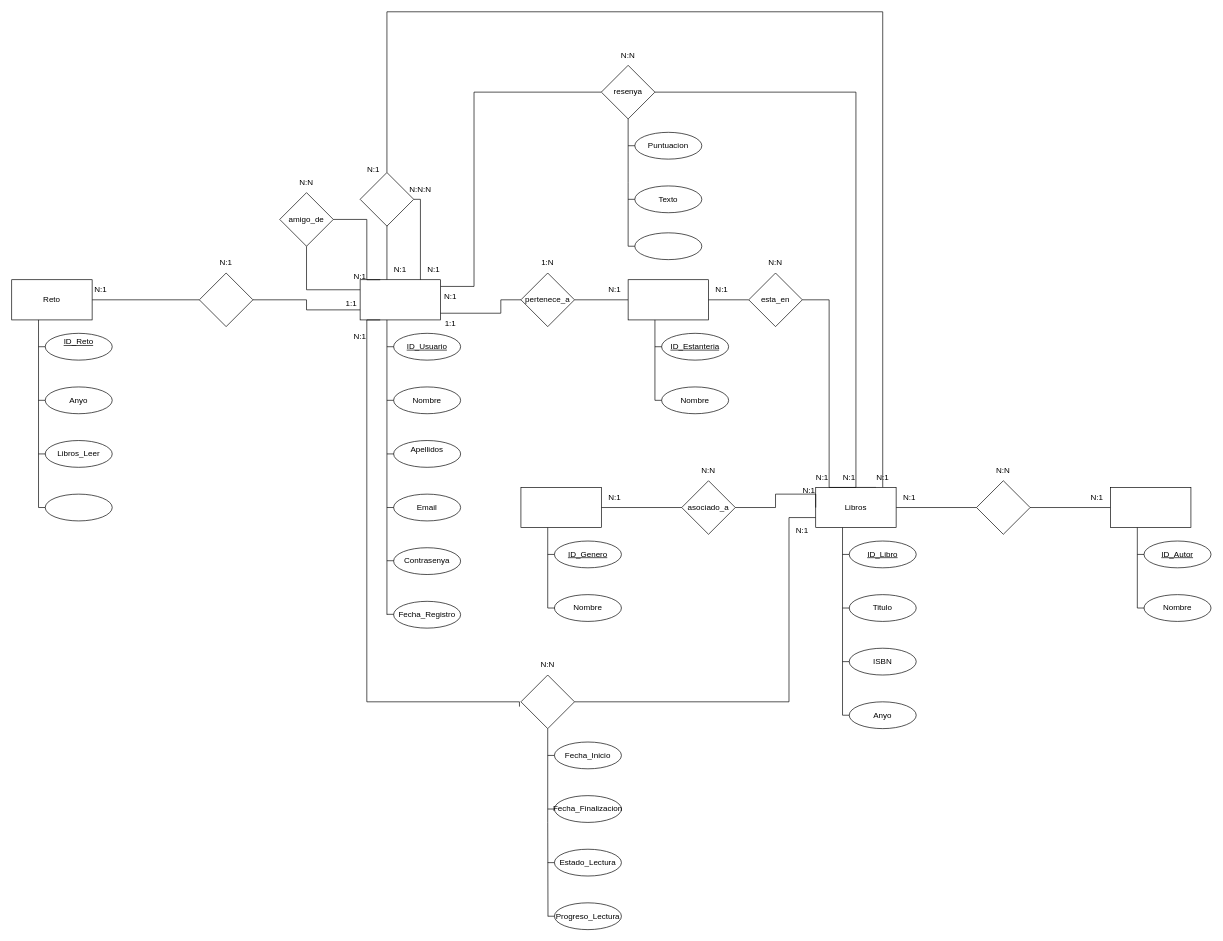
This 1223x941 diagram has some shape labels left out. The centre of each missing label's shape, as x and y in pixels:
"Autores" goes at point 1150,507.
"escrito_por" goes at point 1003,507.
"Estanteria" goes at point 668,299.
"Fecha_Publicacion" goes at point 668,246.
"Generos" goes at point 560,507.
"Libros_Leidos" goes at point 78,507.
"pertenecer" goes at point 226,299.
"recomienda" goes at point 386,199.
"seguimiento" goes at point 547,701.
"Usuarios" goes at point 400,299.
